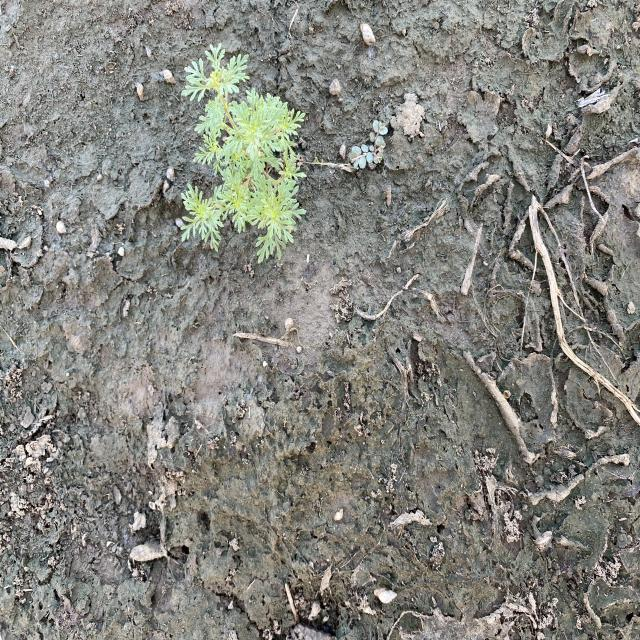Ragweed: (178, 42, 308, 266)
